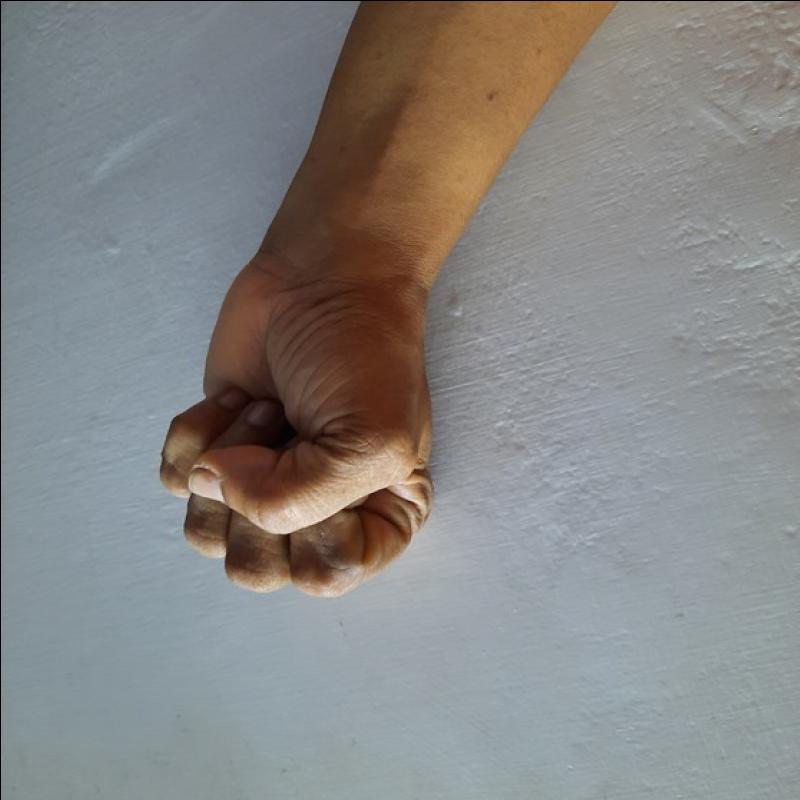Mushti: (138, 241, 454, 618)
